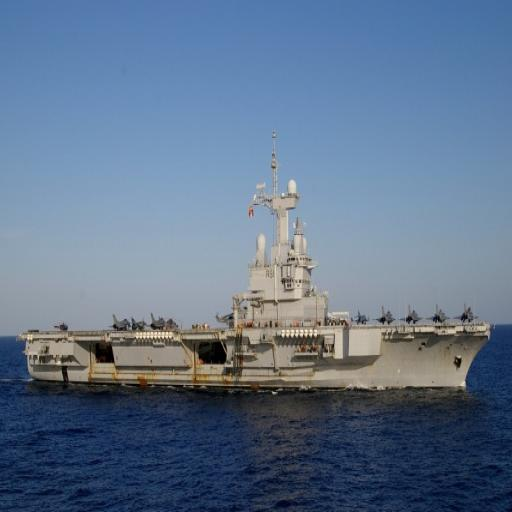Portanaves: (17, 125, 498, 401)
